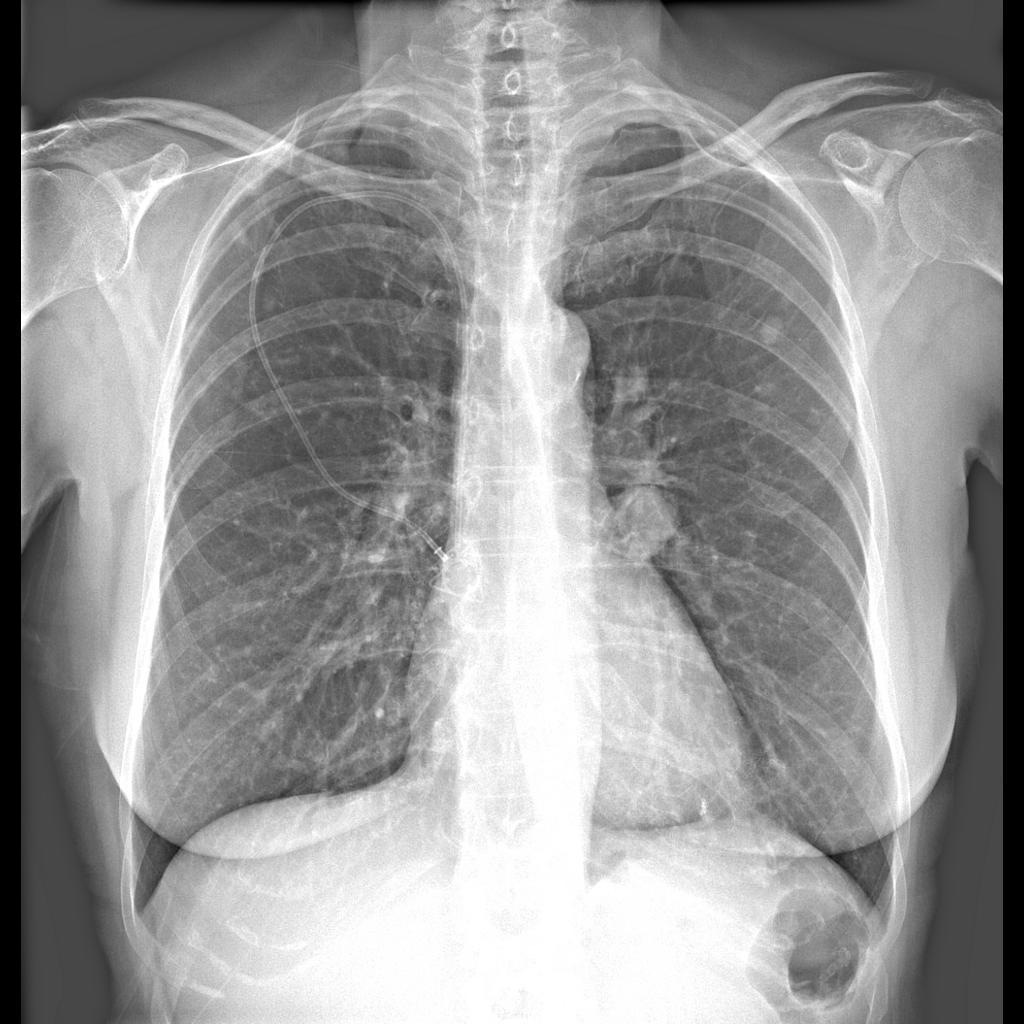Nodule: (599, 470, 695, 562), (757, 316, 789, 347)
